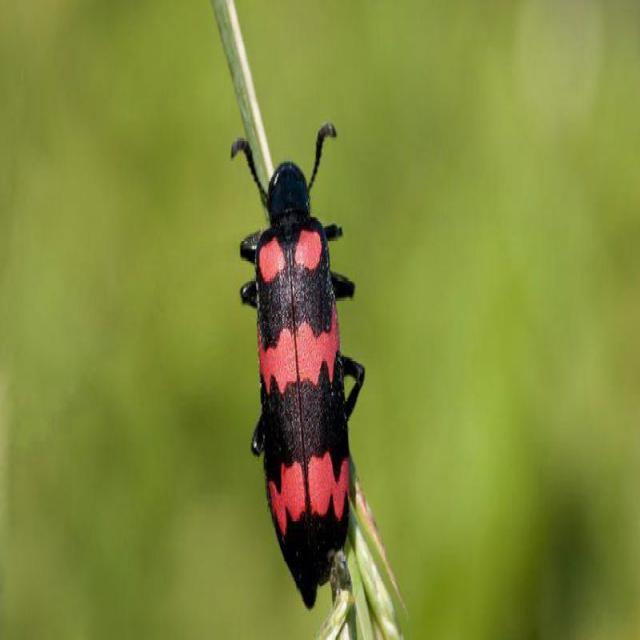BlisterBeetle-Adult-: (223, 118, 370, 618)
